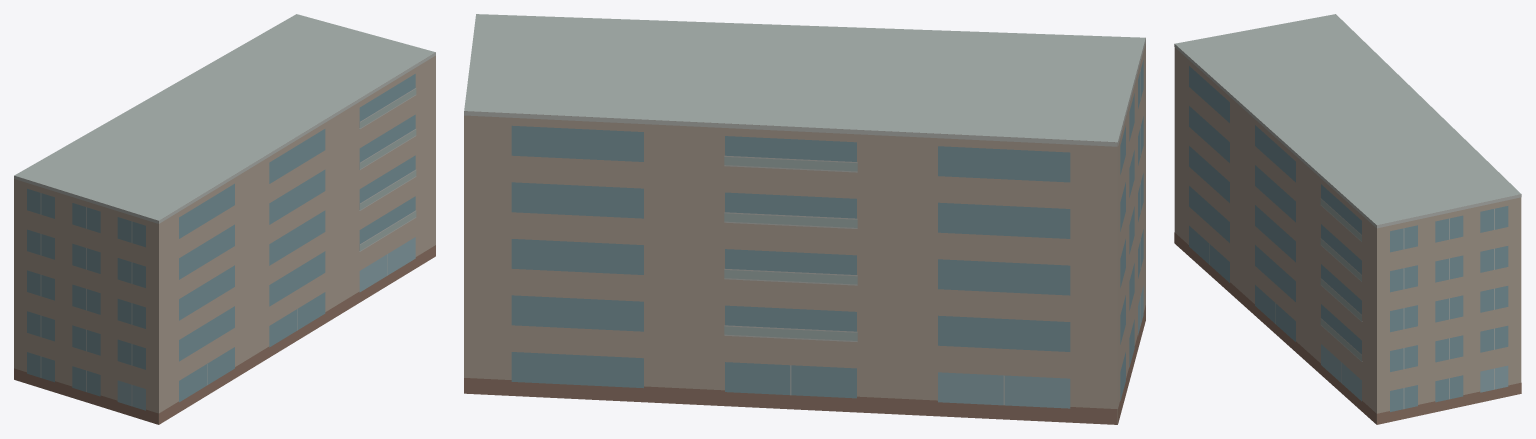
The model's file is residential-8f1bfac5-1c67-44fc-a691-5e2215d045c6.glb.
3 renders of one model, left to right at view 1: azimuth 30°, elevation 25°; view 2: azimuth 150°, elevation 25°; view 3: azimuth 270°, elevation 25°, orthographic. The views are drawn at different scales.
Visible parts, largest first — view 1: residential-8f1bfac5-1c67-44fc-a691-5e2215d045c6.tmp; view 2: residential-8f1bfac5-1c67-44fc-a691-5e2215d045c6.tmp; view 3: residential-8f1bfac5-1c67-44fc-a691-5e2215d045c6.tmp.
Boxes of the visible parts, x1,y1,x2,y2 form: residential-8f1bfac5-1c67-44fc-a691-5e2215d045c6.tmp: [14, 14, 435, 424]; residential-8f1bfac5-1c67-44fc-a691-5e2215d045c6.tmp: [464, 14, 1145, 424]; residential-8f1bfac5-1c67-44fc-a691-5e2215d045c6.tmp: [1174, 14, 1521, 424].
Size of the model in its own units: 34.61 by 15.25 by 24.02.
